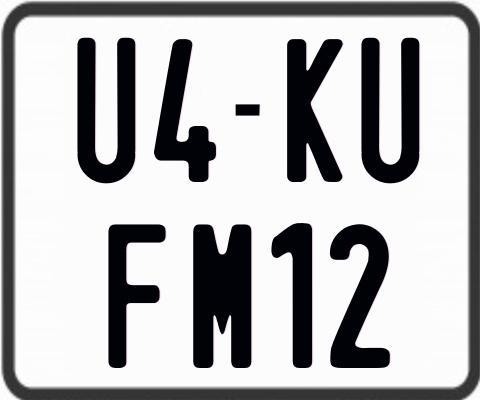1: (268, 223, 310, 368)
2: (330, 223, 393, 369)
4: (153, 39, 221, 184)
F: (108, 224, 168, 374)
K: (285, 37, 341, 185)
M: (192, 222, 252, 368)
U: (358, 35, 419, 181), (75, 35, 133, 185)
